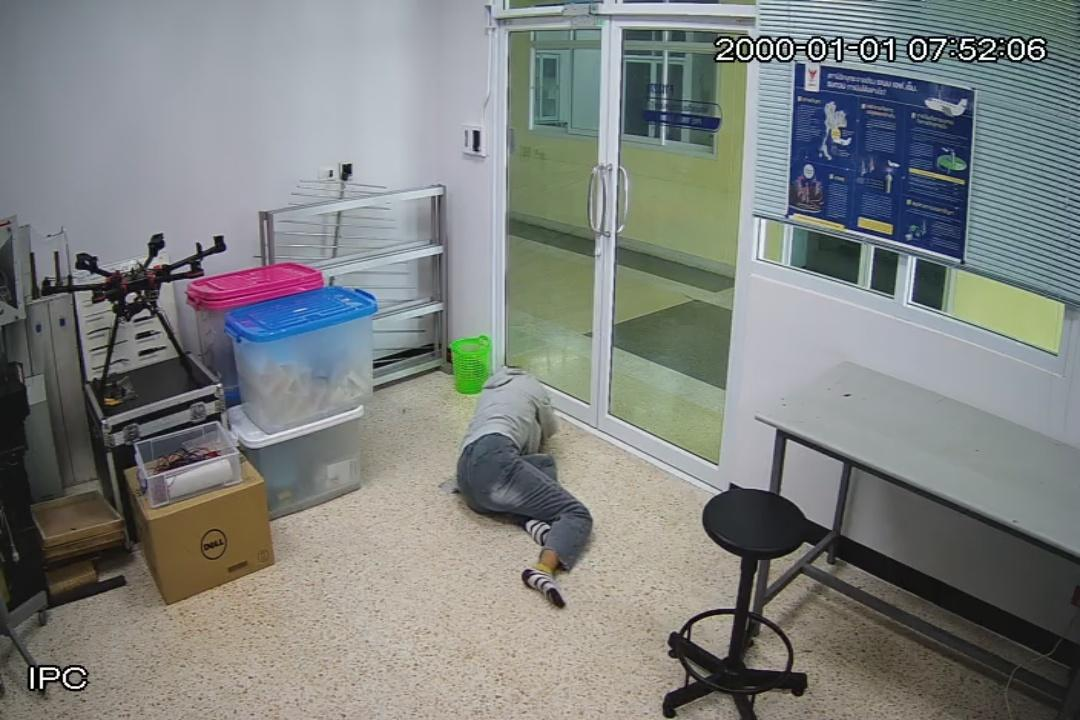fall: (456, 370, 591, 612)
